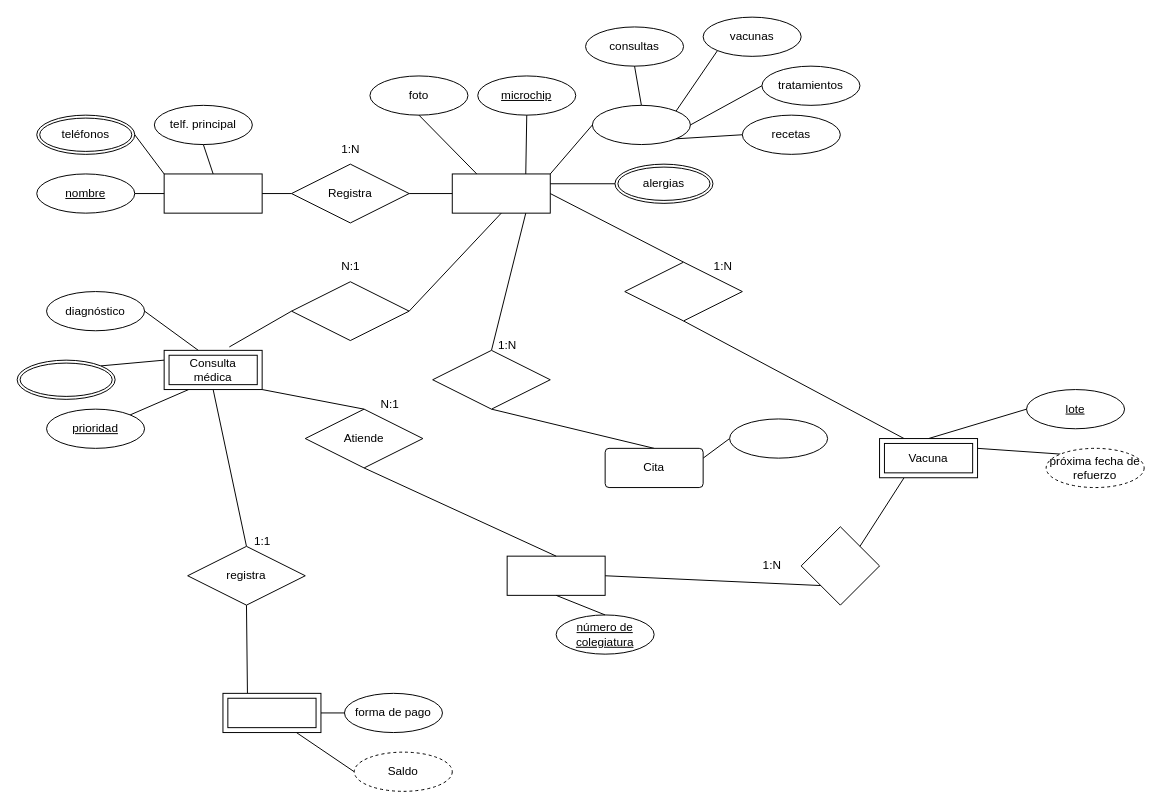
Some shapes in this 1161 by 809 pixel diagram are drawn without their labels. The box of each missing label's shape, as (x1, y1, x2, y2) in pixels:
agenda: (432, 349, 550, 409)
Aplica: (800, 526, 880, 605)
Dueño: (163, 173, 262, 213)
Historial medico: (591, 104, 690, 145)
mascota: (451, 173, 550, 213)
Pago: (222, 692, 321, 733)
recibe: (624, 261, 742, 321)
recodatorio de vacuna: (729, 418, 828, 458)
recomendaciones: (16, 359, 115, 399)
Tiene: (291, 281, 409, 341)
veterinario: (506, 555, 605, 595)
